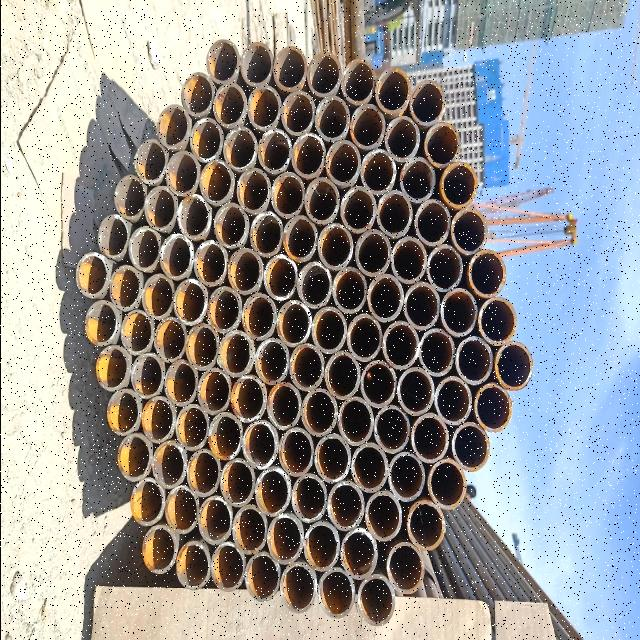pipe: (278, 558, 318, 614), (356, 574, 396, 628), (410, 410, 448, 464), (314, 430, 352, 484), (304, 518, 340, 574), (364, 489, 402, 542), (426, 460, 466, 510), (242, 416, 278, 471), (228, 372, 266, 424), (350, 442, 388, 494), (340, 528, 378, 580), (128, 347, 164, 401), (388, 448, 424, 502), (278, 424, 314, 478), (418, 326, 456, 376), (382, 321, 420, 371), (474, 382, 512, 432), (408, 500, 446, 550), (140, 524, 178, 574), (338, 395, 374, 447), (388, 542, 424, 594), (318, 566, 354, 618), (372, 66, 412, 112), (478, 296, 518, 342), (348, 102, 386, 150), (440, 160, 478, 208), (170, 278, 208, 326), (372, 406, 410, 454), (128, 478, 166, 526), (497, 339, 533, 389), (390, 235, 426, 285), (404, 280, 440, 330), (192, 238, 228, 288), (436, 376, 472, 426), (360, 358, 396, 408), (324, 350, 360, 400), (452, 421, 488, 471), (208, 412, 244, 462), (328, 482, 364, 532), (186, 446, 222, 496), (210, 543, 246, 593), (354, 228, 391, 276), (174, 402, 208, 454), (256, 466, 290, 518), (398, 366, 433, 416), (426, 245, 464, 291), (272, 43, 308, 91), (280, 88, 316, 136), (360, 147, 396, 195), (132, 136, 168, 184), (318, 222, 354, 270), (368, 274, 404, 322), (456, 336, 492, 384), (218, 329, 254, 377), (292, 474, 328, 522), (220, 460, 256, 508), (116, 432, 152, 480), (268, 515, 304, 563), (411, 76, 445, 126), (306, 176, 340, 226), (236, 166, 270, 216), (284, 213, 318, 263), (332, 263, 366, 313), (160, 230, 194, 280), (162, 357, 196, 407), (94, 342, 128, 392), (106, 384, 140, 434), (232, 505, 266, 555), (198, 496, 232, 546), (176, 540, 210, 590), (268, 378, 300, 431), (165, 486, 200, 534), (306, 50, 342, 96), (384, 116, 420, 162), (314, 95, 350, 141), (246, 84, 282, 130), (400, 156, 436, 202), (256, 128, 292, 174), (340, 186, 376, 232), (470, 248, 506, 294), (262, 254, 298, 300), (346, 315, 382, 361), (82, 299, 118, 345), (208, 284, 241, 334), (340, 57, 374, 105), (212, 81, 246, 129), (156, 102, 190, 150), (416, 198, 450, 246), (442, 288, 476, 336), (312, 307, 346, 355), (255, 337, 289, 385), (186, 322, 220, 370), (302, 387, 336, 435), (140, 395, 174, 443), (242, 292, 274, 342), (228, 247, 262, 294), (96, 213, 130, 260), (325, 140, 361, 184), (376, 191, 412, 235), (198, 161, 234, 205), (296, 263, 332, 307), (224, 125, 258, 171), (452, 209, 486, 255), (164, 150, 198, 196), (248, 211, 282, 257), (290, 344, 324, 390), (152, 441, 186, 487), (244, 555, 278, 601), (272, 172, 304, 220), (207, 40, 241, 84), (426, 122, 460, 166), (214, 204, 248, 248), (276, 302, 310, 346), (140, 275, 174, 319), (74, 252, 108, 296), (121, 310, 155, 354), (240, 40, 272, 86), (198, 368, 230, 414), (155, 316, 187, 361), (292, 134, 326, 176), (176, 197, 210, 239), (181, 72, 213, 116), (190, 117, 222, 161), (108, 266, 140, 310), (128, 227, 160, 270), (144, 188, 176, 230), (114, 176, 146, 218)
